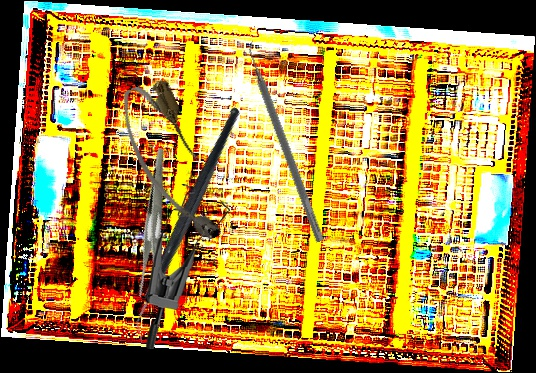Cannula: (111, 74, 232, 254)
Chopper: (67, 105, 309, 347)
Dressing Forceps: (100, 147, 210, 302)
Spatula Surgical: (240, 38, 334, 243)
Speculum: (143, 183, 231, 352)
